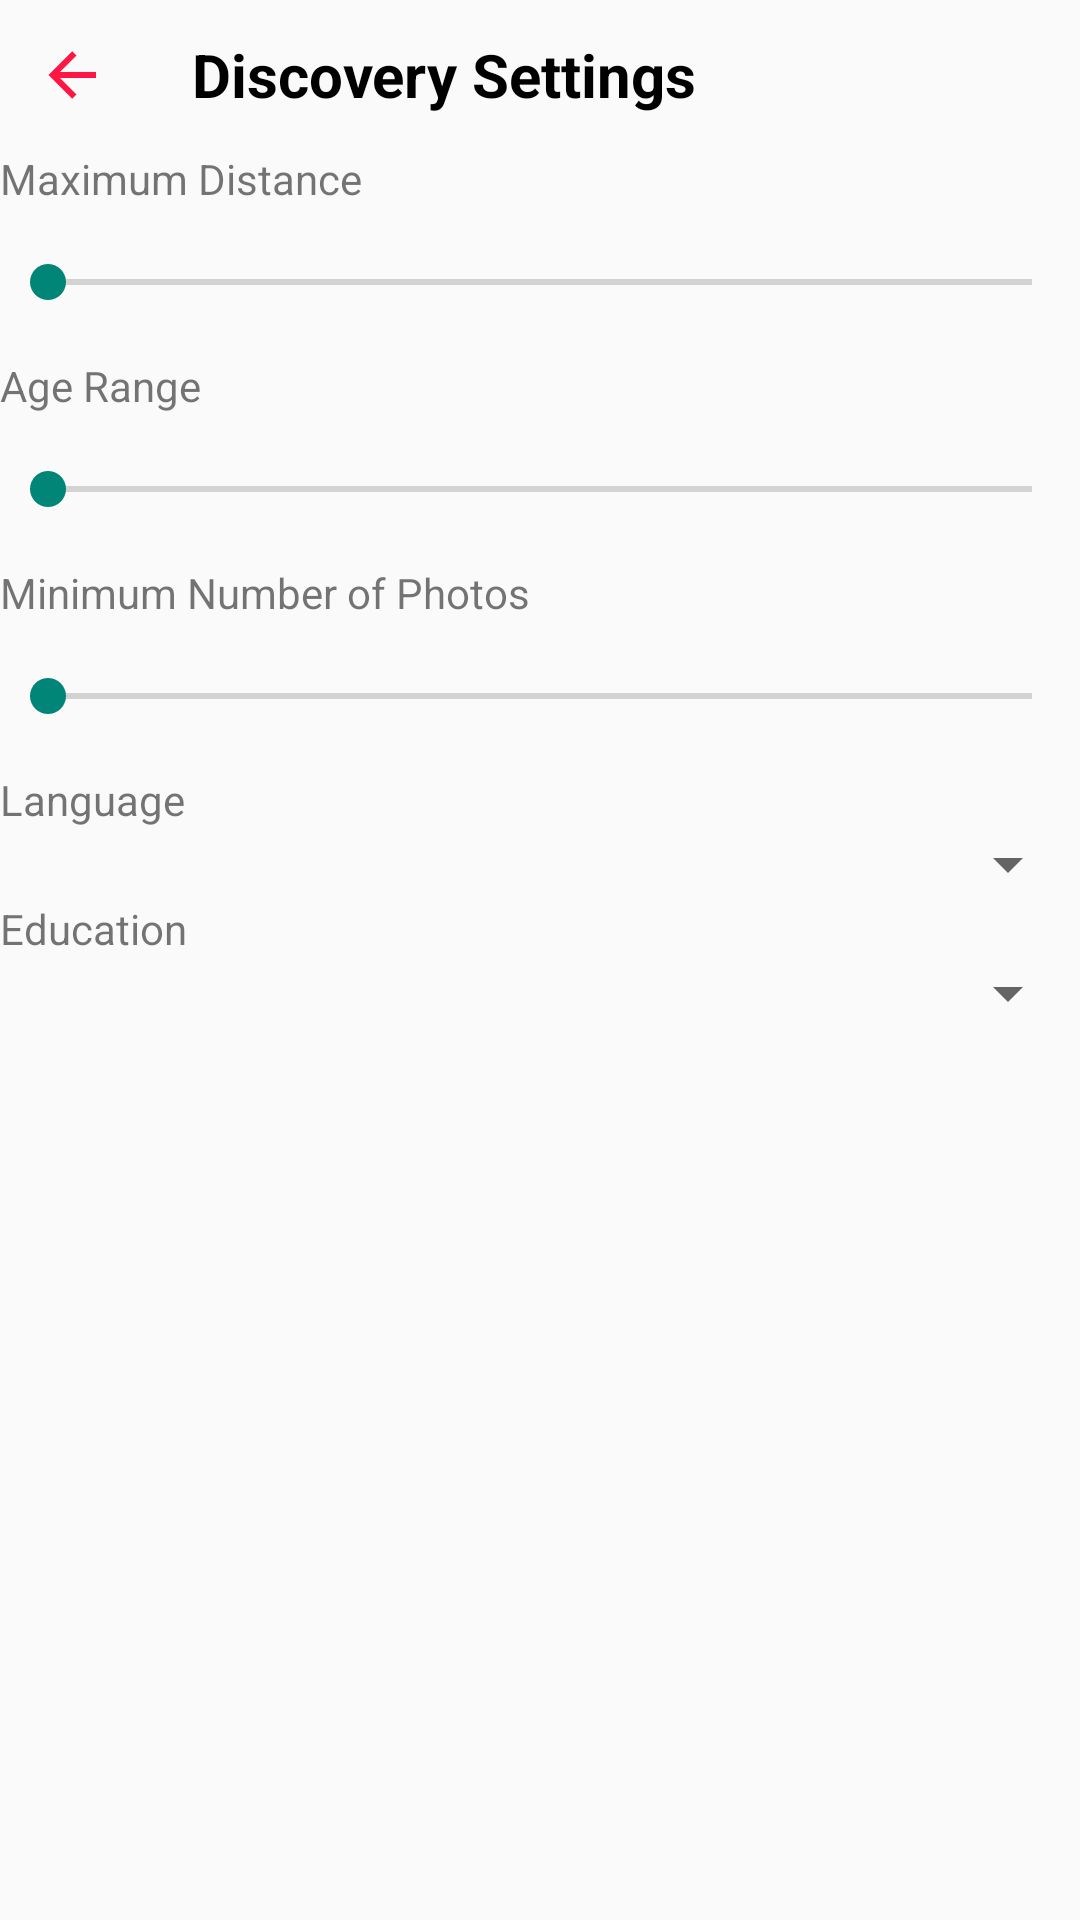

Icons on this 1080×1920 Android screen, each with the point to tap as (x=x, y=y):
Return: (x=72, y=75)
